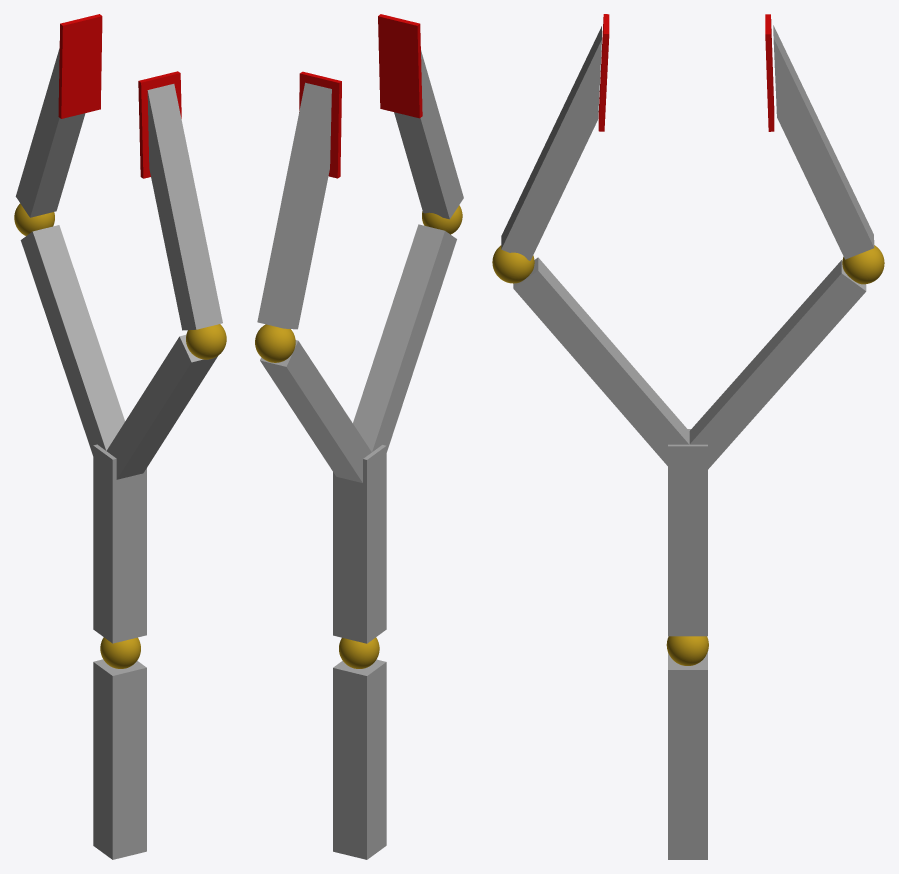
File: arm.fbx
3 renders of one model, left to right at view 1: azimuth 30°, elevation 25°; view 2: azimuth 150°, elevation 25°; view 3: azimuth 270°, elevation 25°, orthographic. The views are drawn at different scales.
Parts seen in each view (by area): view 1: Plane.001, Cube, Cube.002, Cube.004, Cube.003, Cube.006, Plane, Sphere, Sphere.002, Sphere.001; view 2: Cube, Cube.006, Cube.003, Cube.002, Plane.001, Cube.004, Plane, Sphere.001, Sphere.002, Sphere; view 3: Cube.004, Cube.003, Plane.001, Cube, Cube.002, Cube.006, Sphere.001, Sphere, Sphere.002, Plane.
Part boxes in pixels (left/top/right/bottom): Plane.001: left=138, top=71, right=222, bottom=330; Cube: left=93, top=659, right=146, bottom=859; Cube.002: left=93, top=444, right=146, bottom=643; Cube.004: left=20, top=225, right=124, bottom=455; Cube.003: left=106, top=335, right=217, bottom=479; Cube.006: left=15, top=48, right=85, bottom=217; Plane: left=58, top=14, right=102, bottom=118; Sphere: left=186, top=324, right=226, bottom=359; Sphere.002: left=100, top=637, right=140, bottom=668; Sphere.001: left=14, top=203, right=54, bottom=235; Cube: left=333, top=659, right=386, bottom=859; Cube.006: left=257, top=82, right=331, bottom=329; Cube.003: left=353, top=224, right=456, bottom=452; Cube.002: left=333, top=445, right=386, bottom=643; Plane.001: left=378, top=14, right=463, bottom=219; Cube.004: left=260, top=340, right=371, bottom=482; Plane: left=299, top=71, right=341, bottom=178; Sphere.001: left=255, top=324, right=295, bottom=362; Sphere.002: left=339, top=637, right=379, bottom=668; Sphere: left=422, top=205, right=462, bottom=234; Cube.004: left=689, top=260, right=866, bottom=469; Cube.003: left=513, top=257, right=689, bottom=465; Plane.001: left=501, top=14, right=609, bottom=260; Cube: left=668, top=652, right=707, bottom=859; Cube.002: left=668, top=429, right=707, bottom=636; Cube.006: left=773, top=25, right=874, bottom=259; Sphere.001: left=842, top=245, right=884, bottom=284; Sphere: left=492, top=245, right=534, bottom=283; Sphere.002: left=666, top=636, right=708, bottom=665; Plane: left=765, top=14, right=774, bottom=131.
Size of the model in its own units: 45.01 by 870 by 374.
